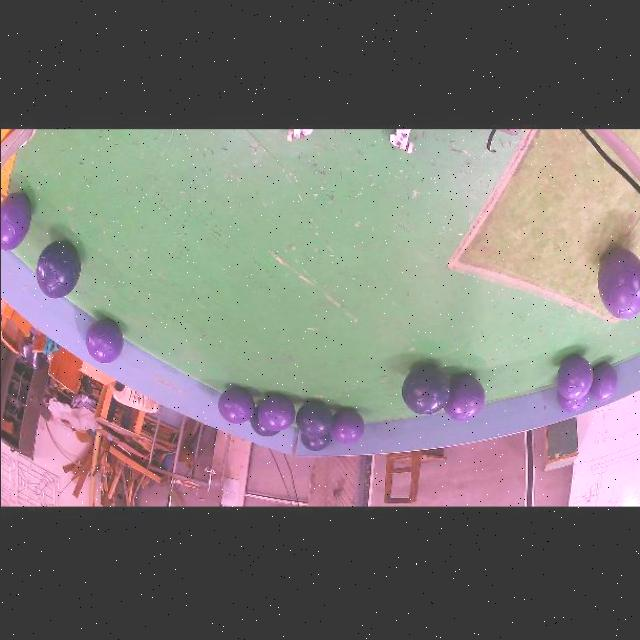B: (35, 241, 79, 297), (401, 364, 449, 414), (294, 399, 332, 437), (248, 406, 277, 436), (300, 432, 330, 450)
P: (596, 247, 640, 318), (442, 374, 484, 420), (0, 192, 31, 248), (84, 318, 122, 363), (555, 353, 592, 399), (256, 394, 294, 431), (217, 386, 254, 423), (328, 408, 364, 443), (588, 361, 617, 401), (557, 391, 588, 411)
